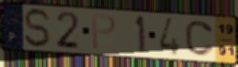1: (132, 14, 148, 56)
2: (55, 10, 81, 51)
4: (158, 16, 183, 58)
C: (183, 19, 216, 58)
P: (91, 13, 118, 51)
S: (22, 7, 53, 50)
